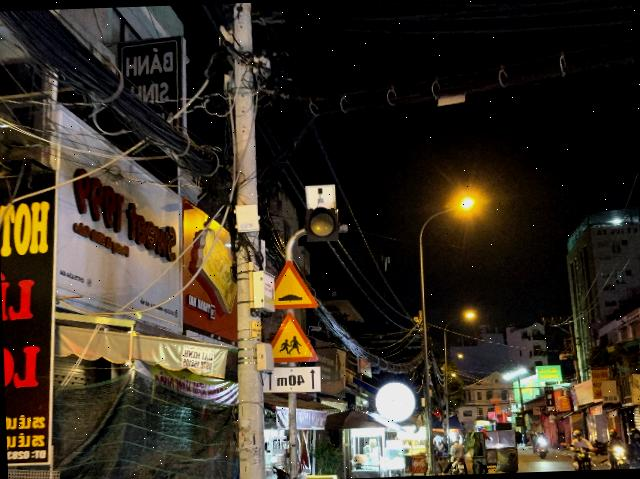duong-co-go-giam-toc: (274, 260, 318, 310)
tre-em-qua-duong: (270, 311, 318, 363)
